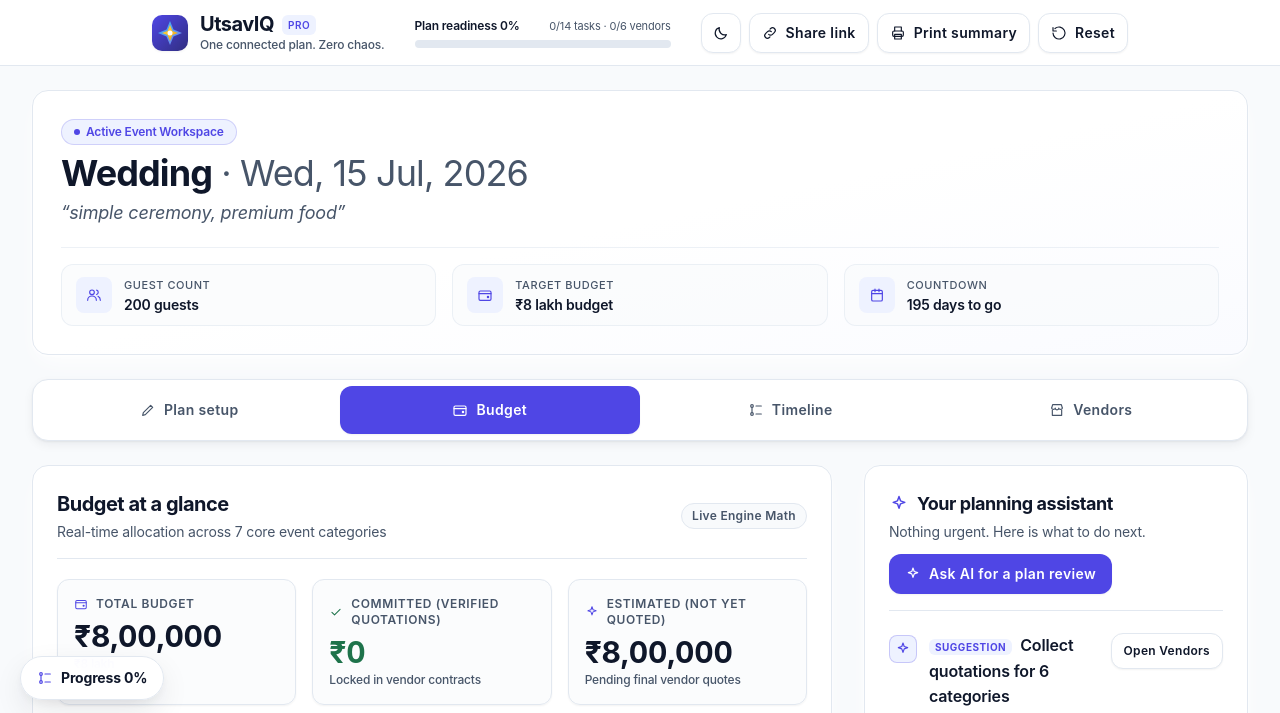
vendors › comparison table handles unnamed, unpriced and tax-extra quotes
The width and height of the screenshot is (1280, 713).
Step 1. Click the tab "Vendors" → (1091, 410), box [940,386,1241,434]
(page scrolled)
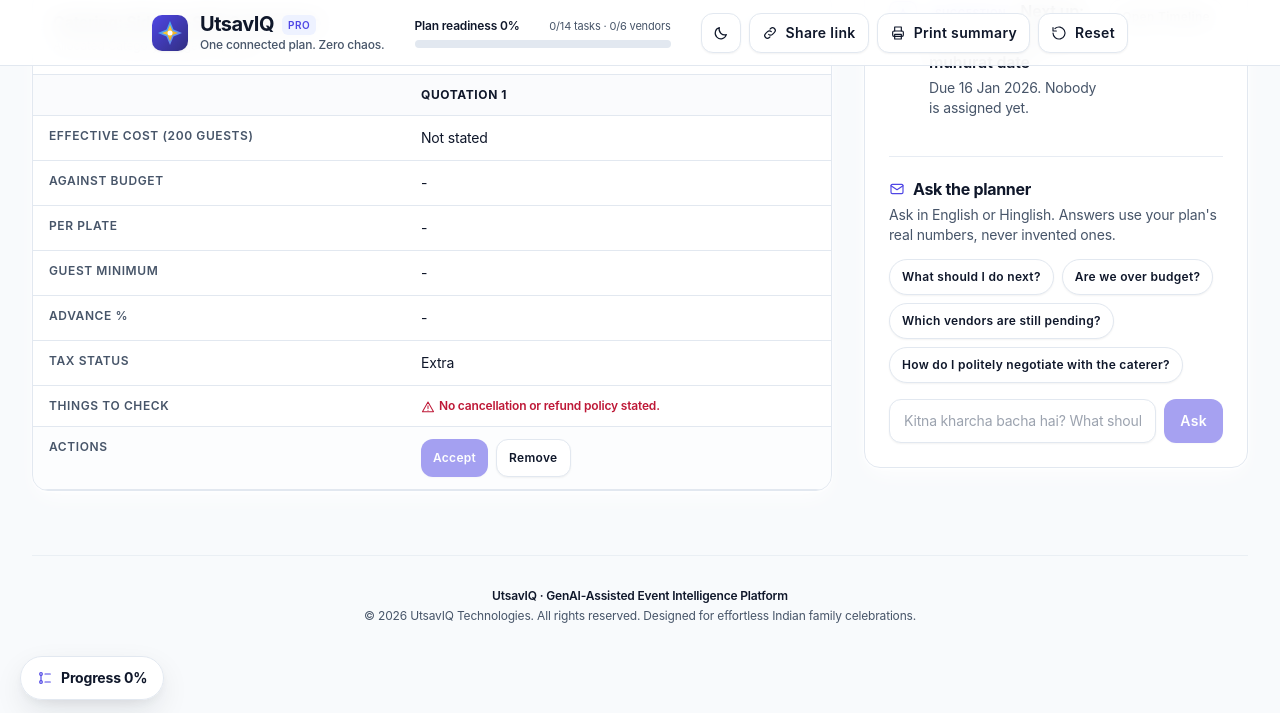
Now the text "Quotation 1" is shown, box [421,87,507,103]
Now the text "Not stated" is shown, box [405,116,831,161]
Now the text "Extra" is shown, box [405,341,831,386]
